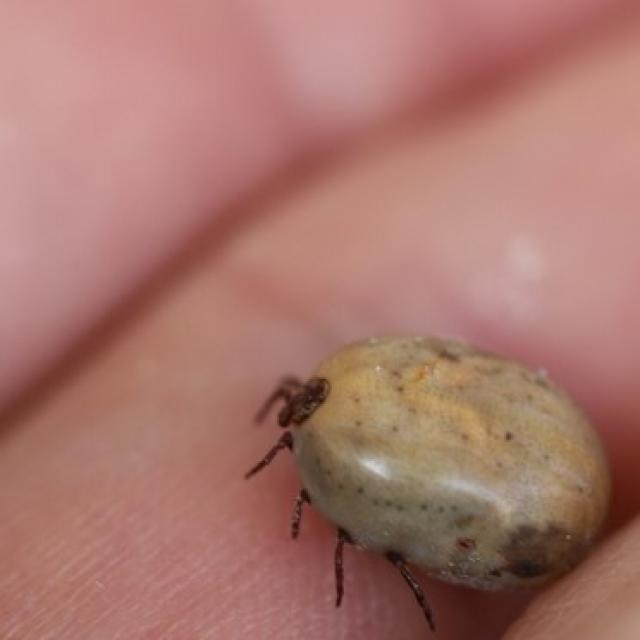Dermacentor Reticulatus-F-Fed: (244, 335, 611, 634)
